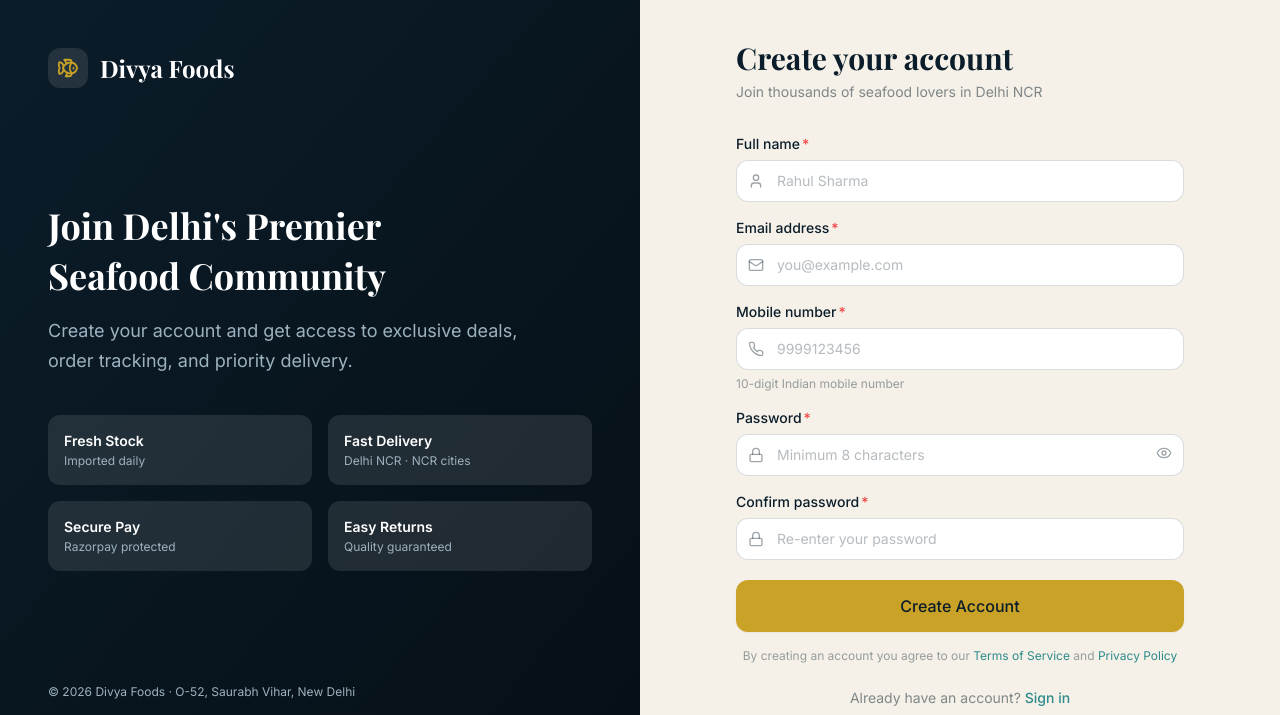
Test: RegisterPage › rejects mismatched password confirmation
The width and height of the screenshot is (1280, 715).
In the password field labelled "Password*": (960, 455) [736,434,1184,476], type "password123"
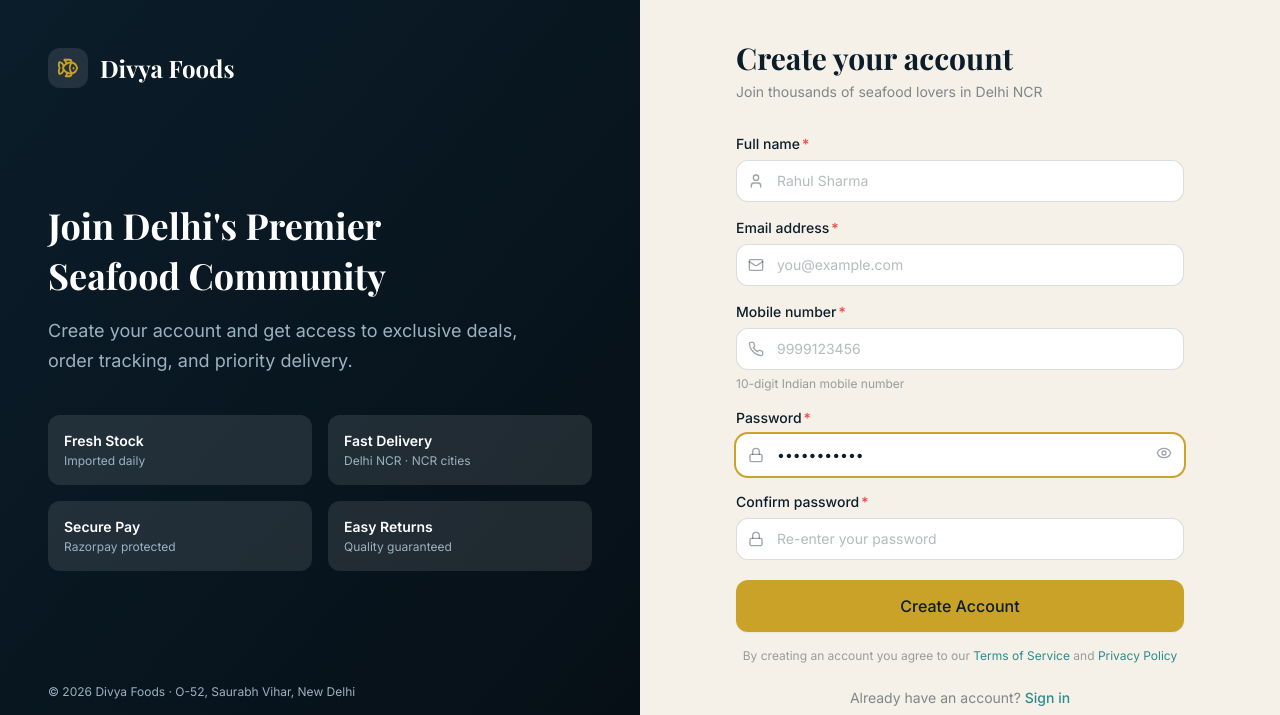
In the password field labelled "Confirm password*": (960, 539) [736,518,1184,560], type "different123"
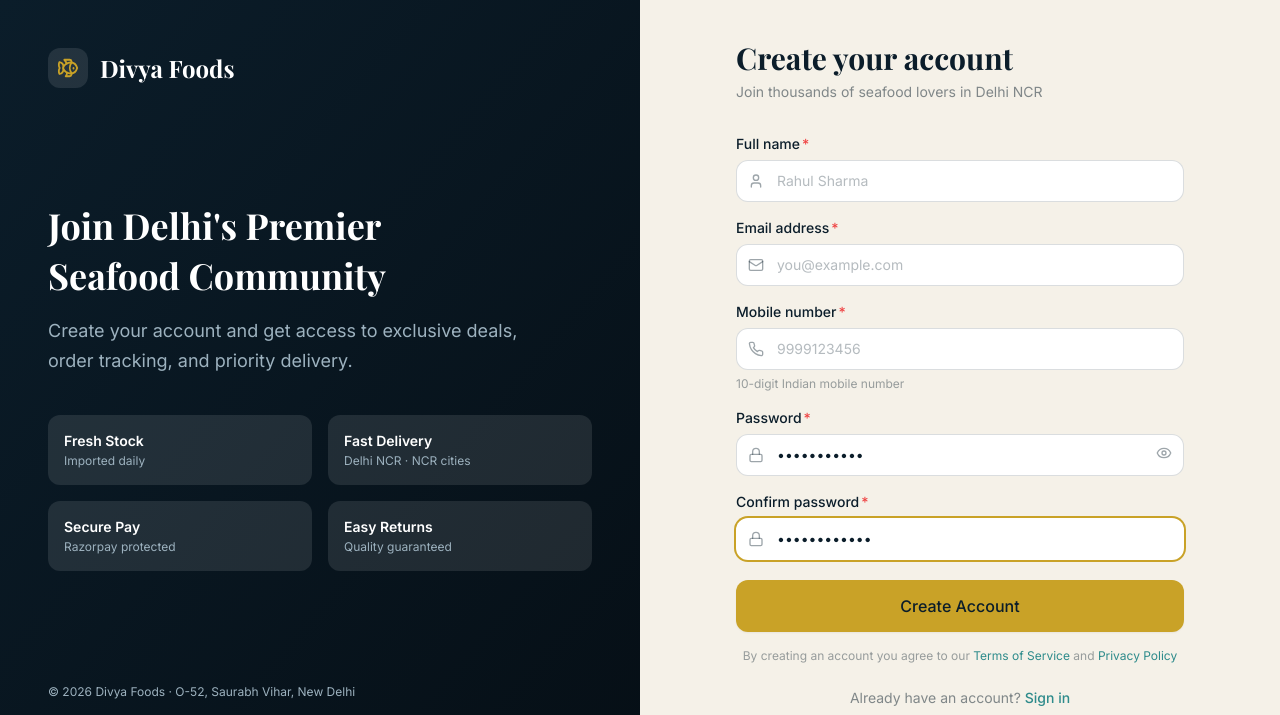
Click the button "Create Account": (960, 606) [736,580,1184,632]
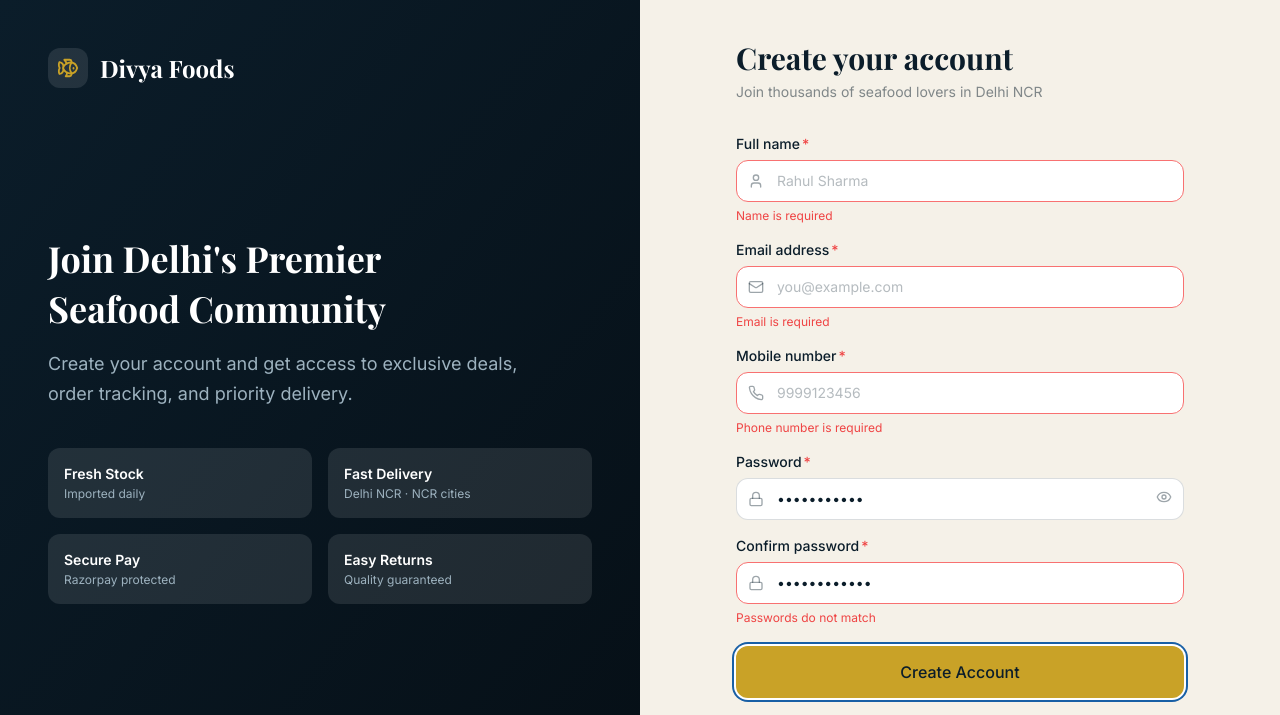
Now the text "Passwords do not match" is shown, box [736,610,876,625]
